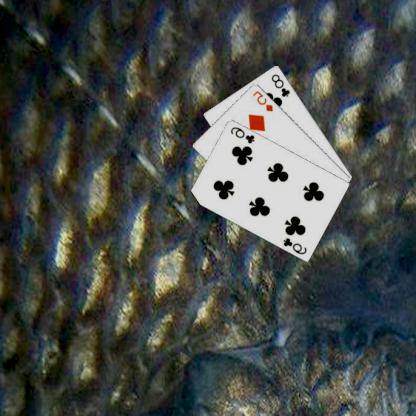5D: (252, 87, 276, 113)
6C: (229, 124, 258, 145), (282, 235, 310, 255)
8C: (270, 71, 293, 98)
